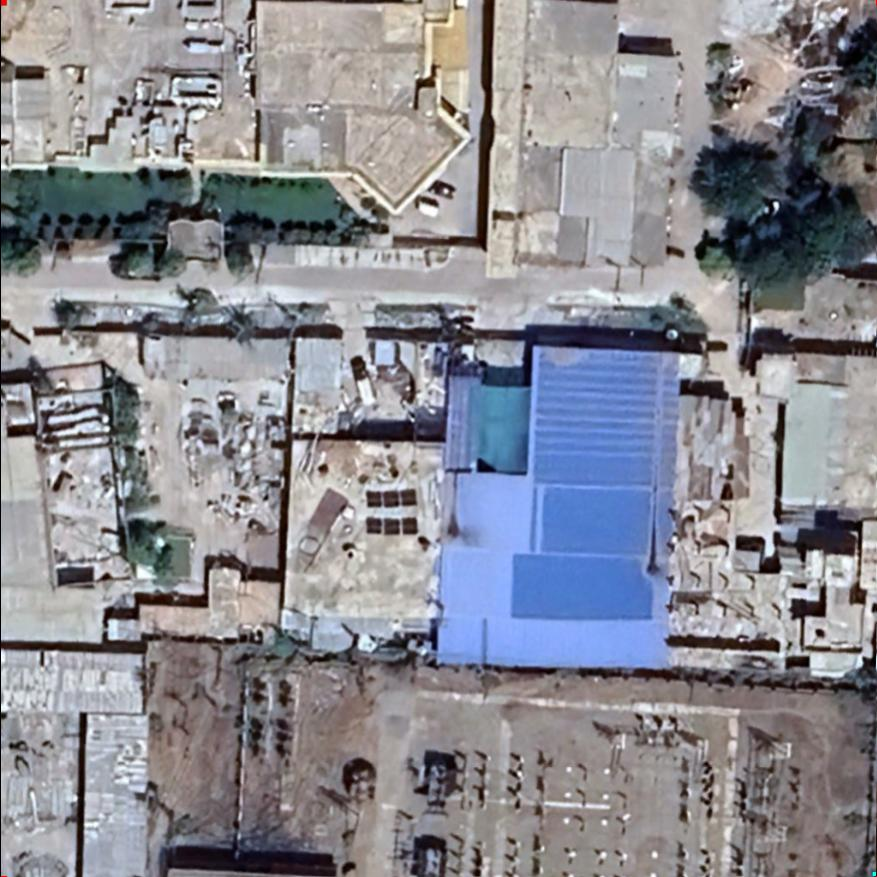Solarpanel: (357, 481, 421, 510), (354, 513, 421, 540)
